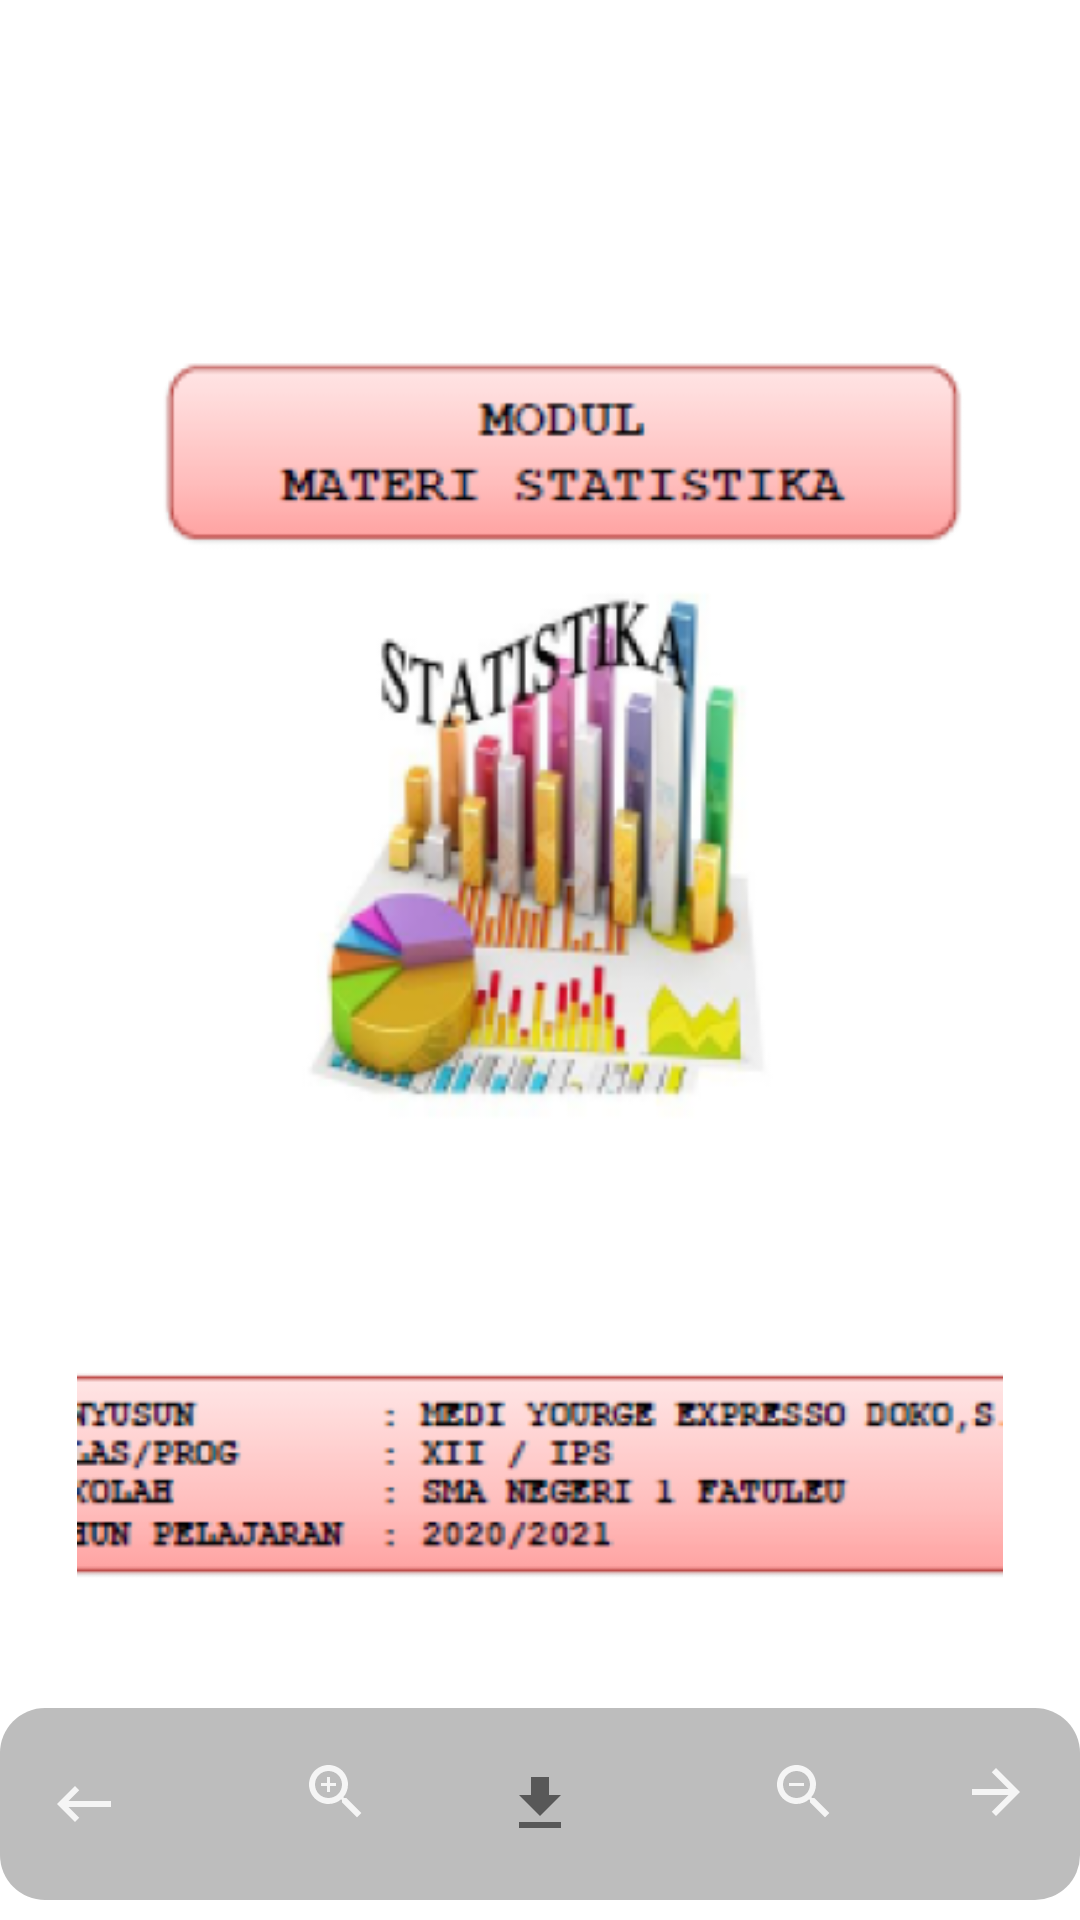

Where icons sit on this 1080px×1920px app screen, as (x1, y1, x2, y2):
download: (519, 1777, 561, 1828)
zoom in: (309, 1765, 361, 1817)
zoom out: (777, 1765, 829, 1817)
